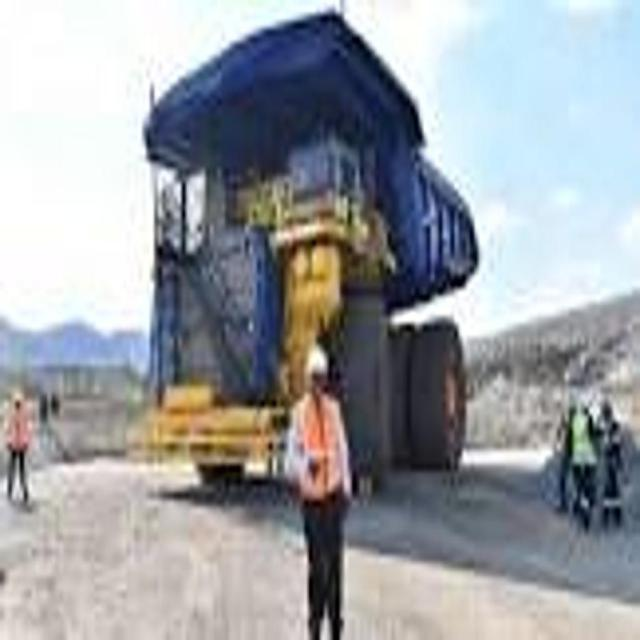dump_truck: (139, 18, 483, 504)
